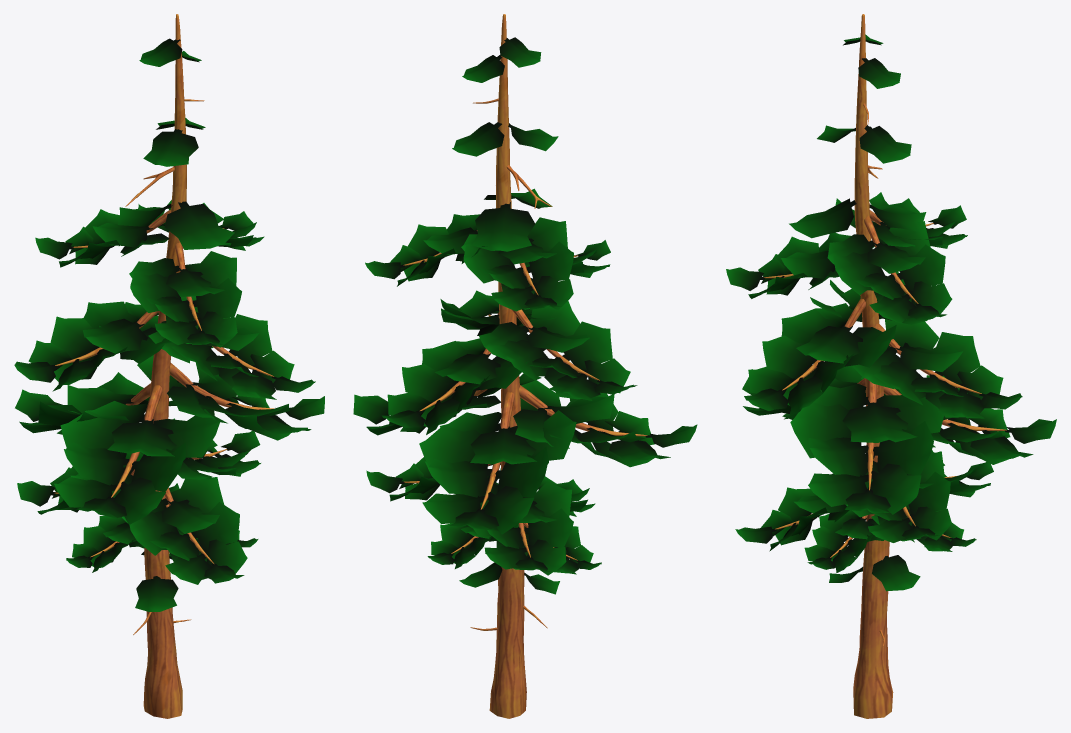
File: tree_2.glb
The picture shows the model from 3 angles, left to right: view 1: azimuth 30°, elevation 25°; view 2: azimuth 150°, elevation 25°; view 3: azimuth 270°, elevation 25°; orthographic projection.
Parts seen in each view (by area): view 1: stylized_pine_var2; view 2: stylized_pine_var2; view 3: stylized_pine_var2.
Part boxes in pixels (bbox=[...]): stylized_pine_var2: bbox=[14, 14, 324, 718]; stylized_pine_var2: bbox=[353, 14, 697, 718]; stylized_pine_var2: bbox=[726, 14, 1056, 718].
Bounding box in the file's own units: 6.37 × 14.33 × 6.13.
2 materials, 1 textured.
